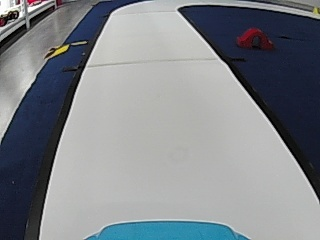bridge: (236, 26, 272, 49)
